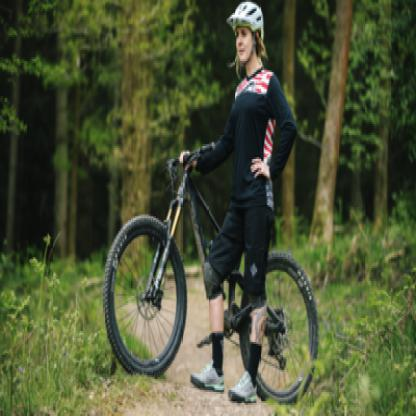With Helmet: (230, 2, 267, 68)
